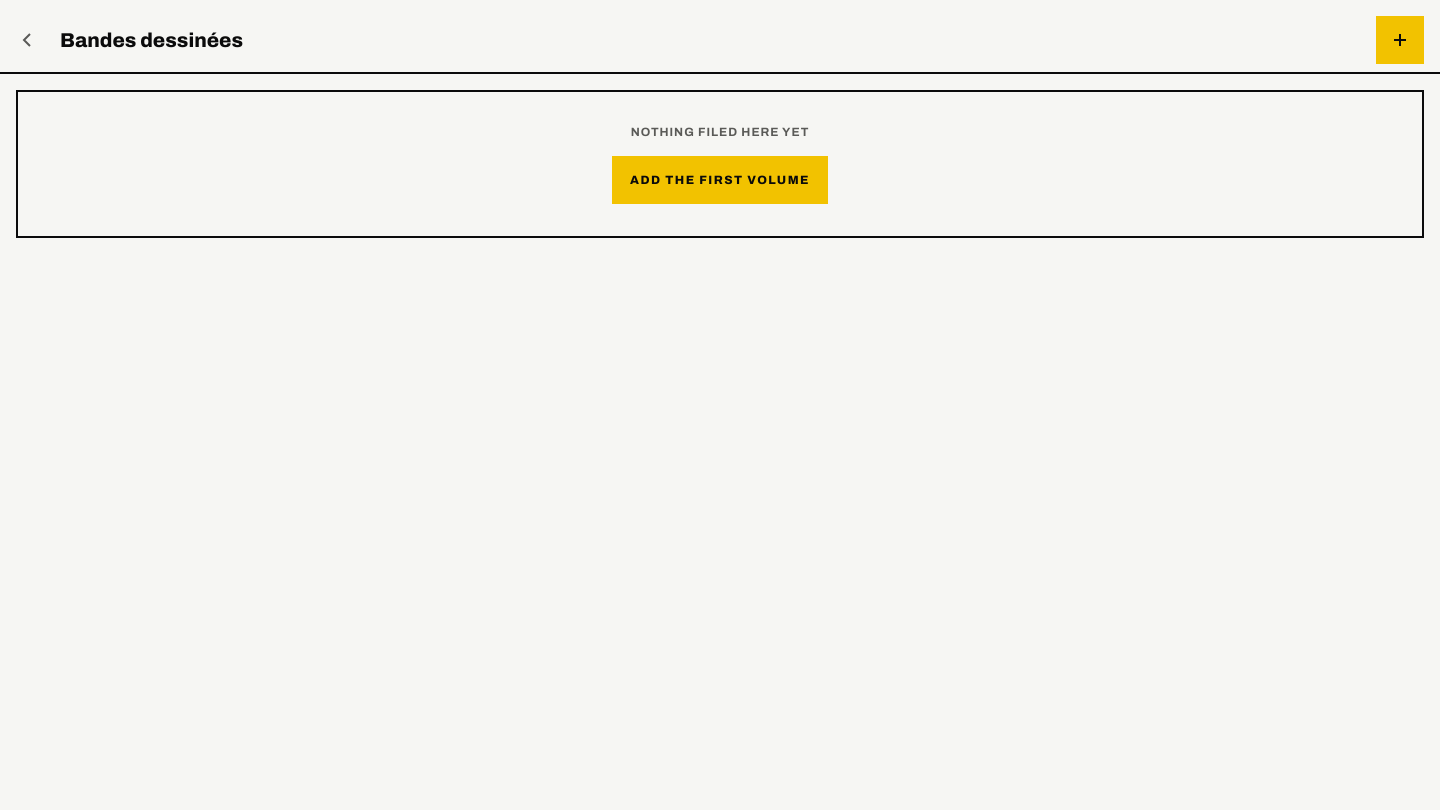
Test: LibraryBrowse empty state › the empty-state control actually opens the add sheet — same action as the header plus
Expected: the text "Nothing filed here yet" is shown, x1=631 y1=125 x2=809 y2=139
Click the button "Add the first volume" at (720, 180), box x1=612 y1=156 x2=828 y2=204
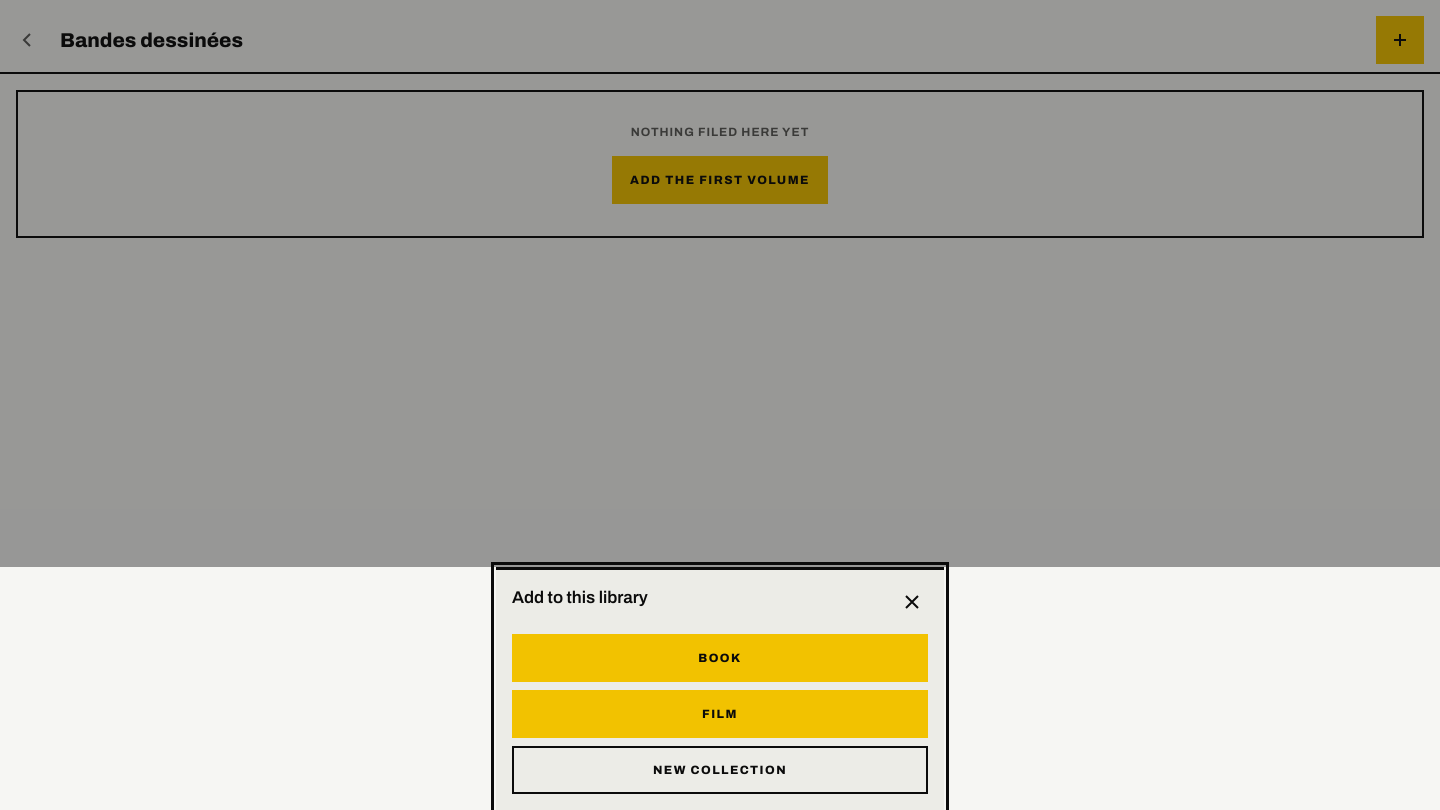
Expected: the heading "Add to this library" is shown, x1=512 y1=586 x2=648 y2=610
